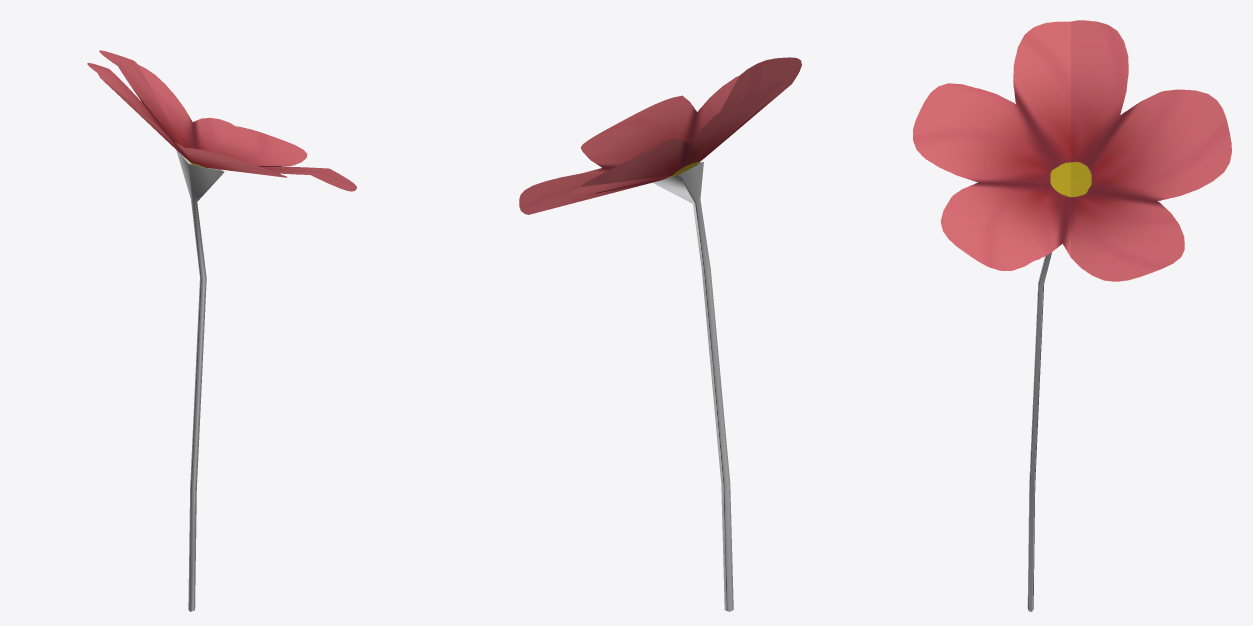
File: PinkFlower.fbx
3 renders of one model, left to right at view 1: azimuth 30°, elevation 25°; view 2: azimuth 150°, elevation 25°; view 3: azimuth 270°, elevation 25°, orthographic. The views are drawn at different scales.
Visible parts, largest first — view 1: Plane.009, Tallos_LP; view 2: Plane.009, Tallos_LP; view 3: Plane.009, Tallos_LP.
Part boxes in pixels (box(x1,y1,x2,y2)): Plane.009: box(87, 50, 356, 191); Tallos_LP: box(176, 150, 224, 611); Plane.009: box(519, 57, 801, 214); Tallos_LP: box(653, 162, 733, 611); Plane.009: box(913, 20, 1231, 281); Tallos_LP: box(1027, 252, 1051, 611).
Bounding box in the file's own units: 360 × 766 × 418.
